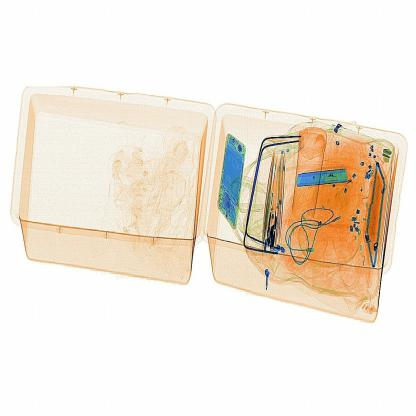pliers: (286, 159, 357, 199)
